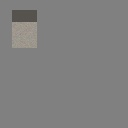supply_truck: (12, 10, 37, 48)
